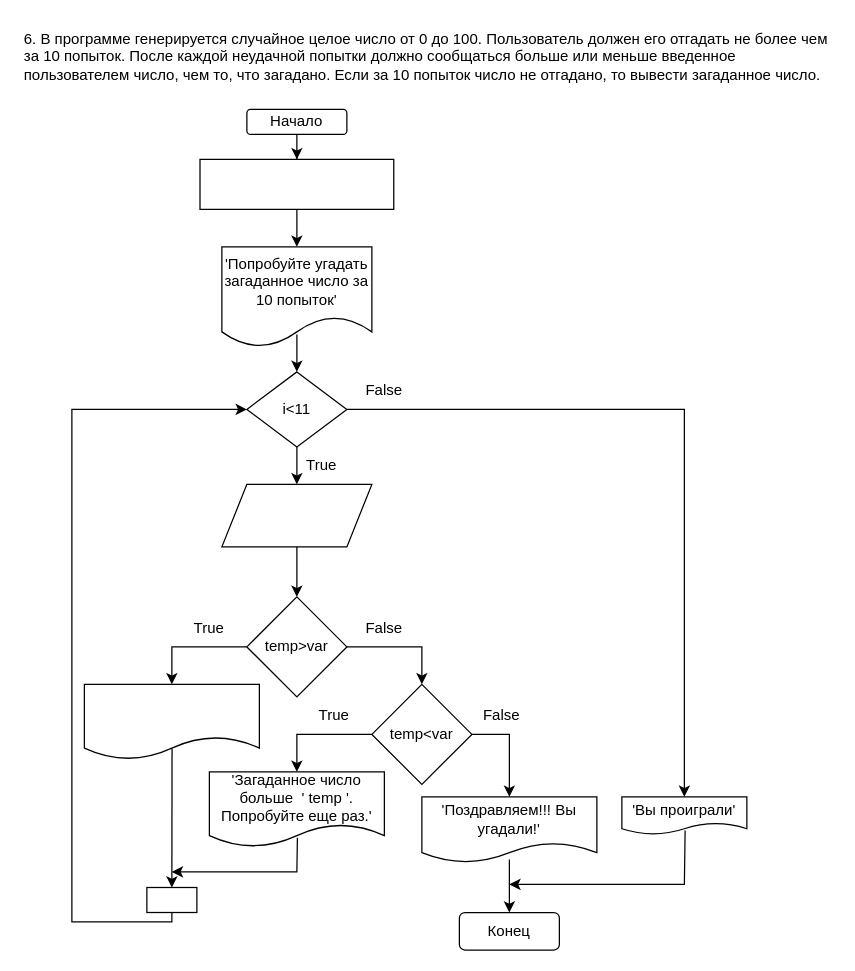
Some shapes in this 855 by 971 pixel diagram are drawn without their labels. Here are the shapes that lost their labels. From the top down, the box of each, then its label:
(199, 158, 394, 209): var=random.randint(0,100) i=1
(221, 483, 372, 547): 'Попытка № ' i '. Введите число' temp
(83, 683, 259, 759): 'Загаданное число меньше ' temp '. Попробуйте еще раз.'
(146, 886, 197, 912): i+=1
